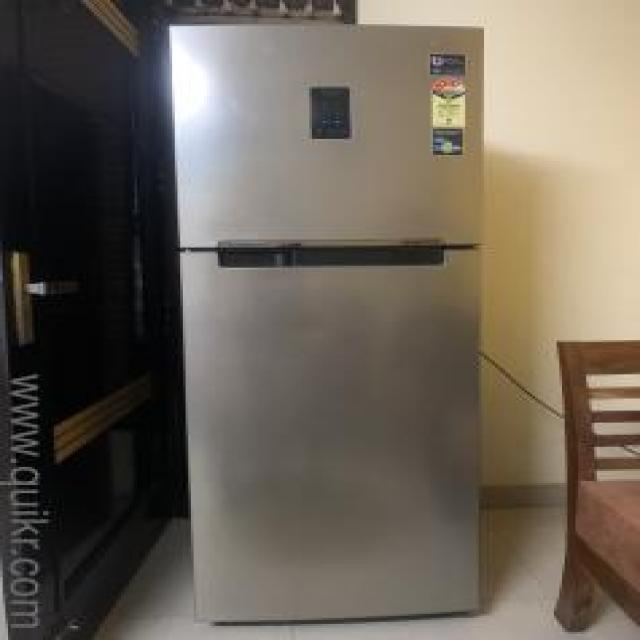refrigerator: (170, 26, 488, 624)
